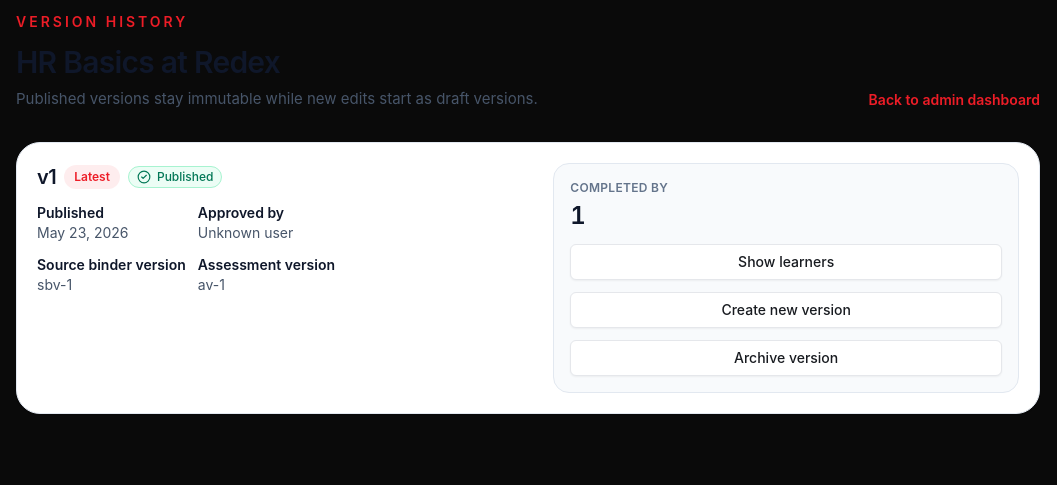
Scenario: ModuleVersionHistoryPage › shows archive confirmation on click and hides it on cancel
Step 1. Click the button "Archive version" → (786, 358), box [570, 340, 1002, 376]
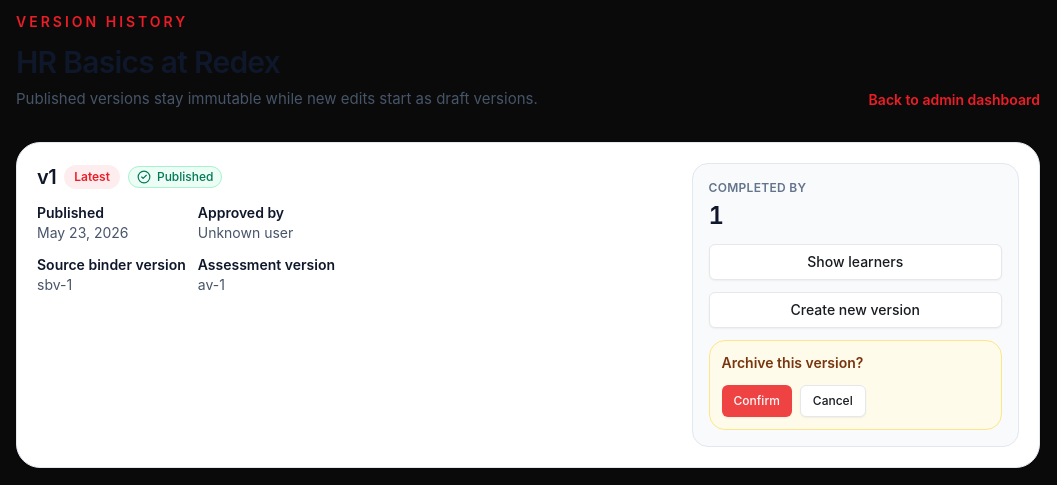
expect the text "Archive this version?" is shown: met, box [722, 354, 863, 371]
Step 2. Click the button "Cancel" → (833, 401), box [800, 385, 866, 417]
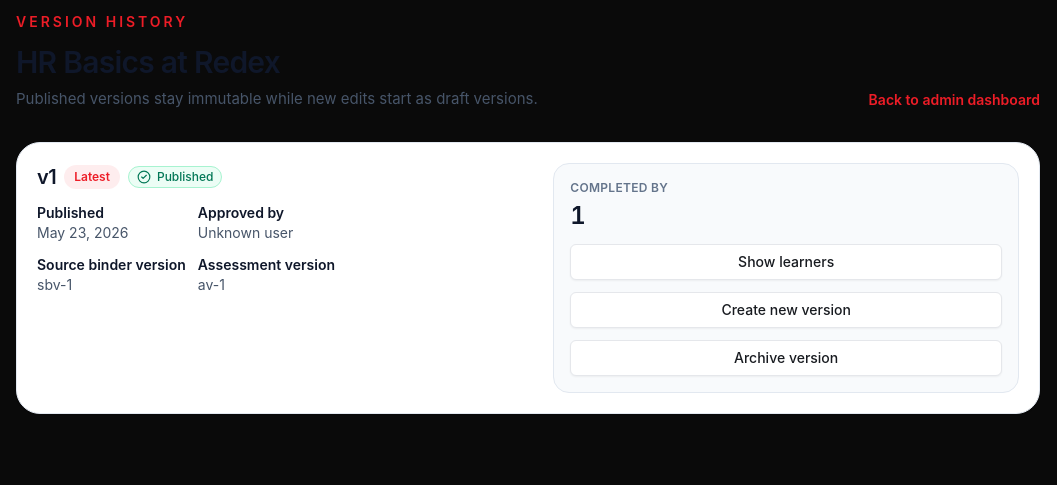
expect the text "Archive this version?" is gone: met
expect the button "Archive version" is shown: met, box [570, 340, 1002, 376]
